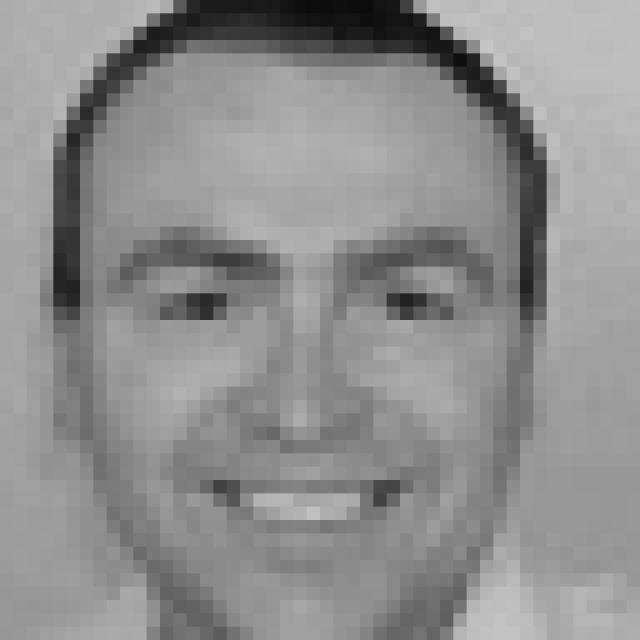happy: (106, 226, 502, 575)
